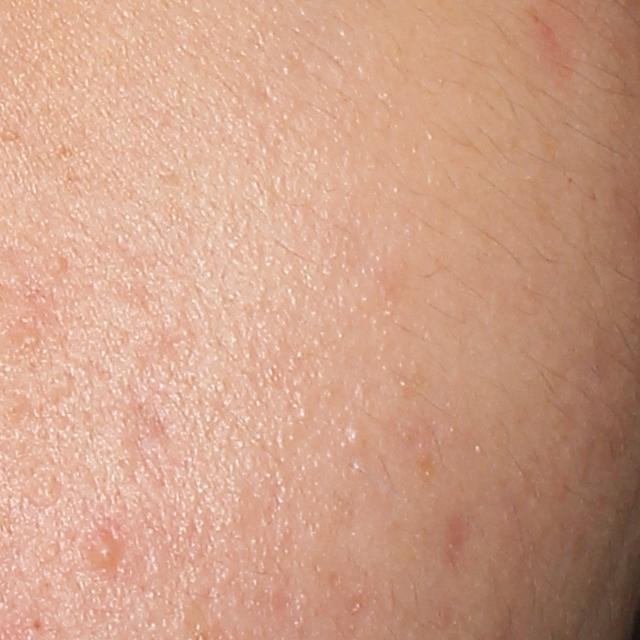comedo: (341, 426, 366, 450)
papule: (89, 527, 121, 569)
